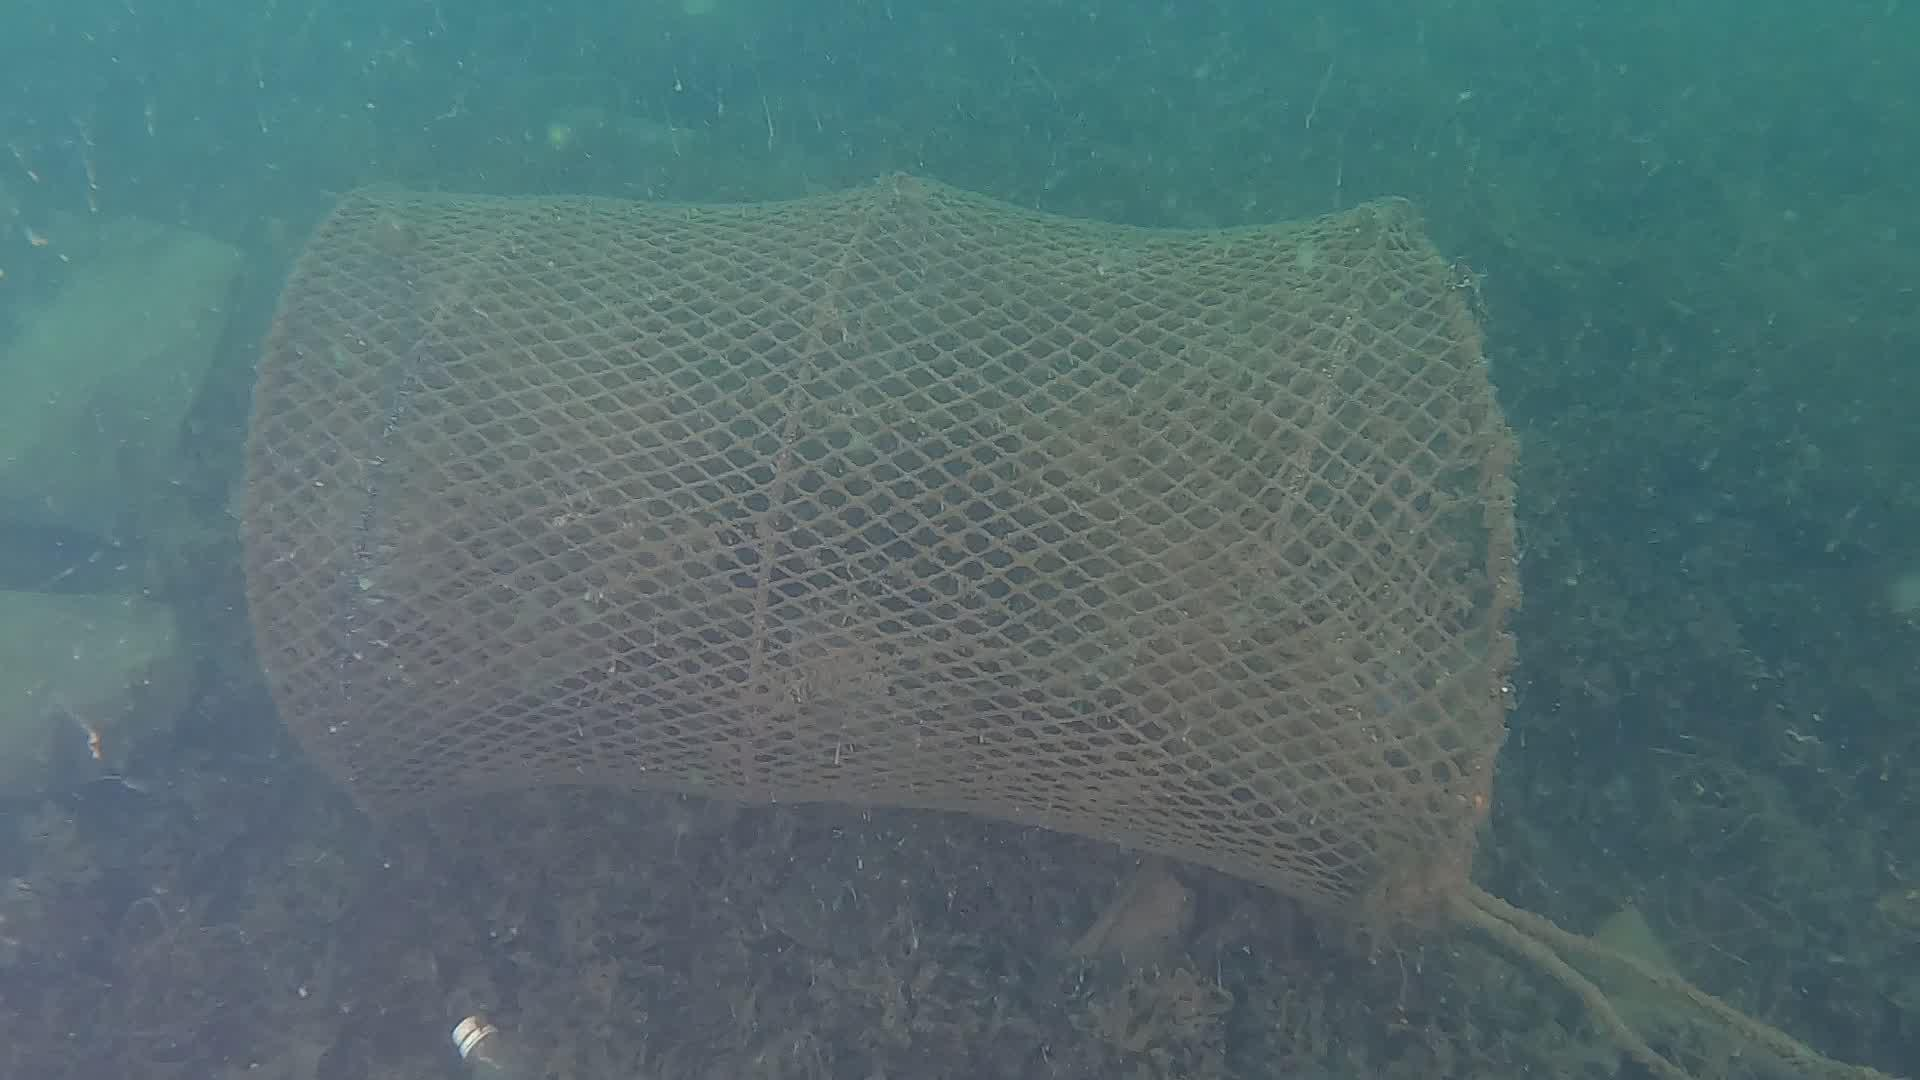bundle of ropes: (1436, 876, 1903, 1080)
spring fish trap: (227, 162, 1524, 960)
